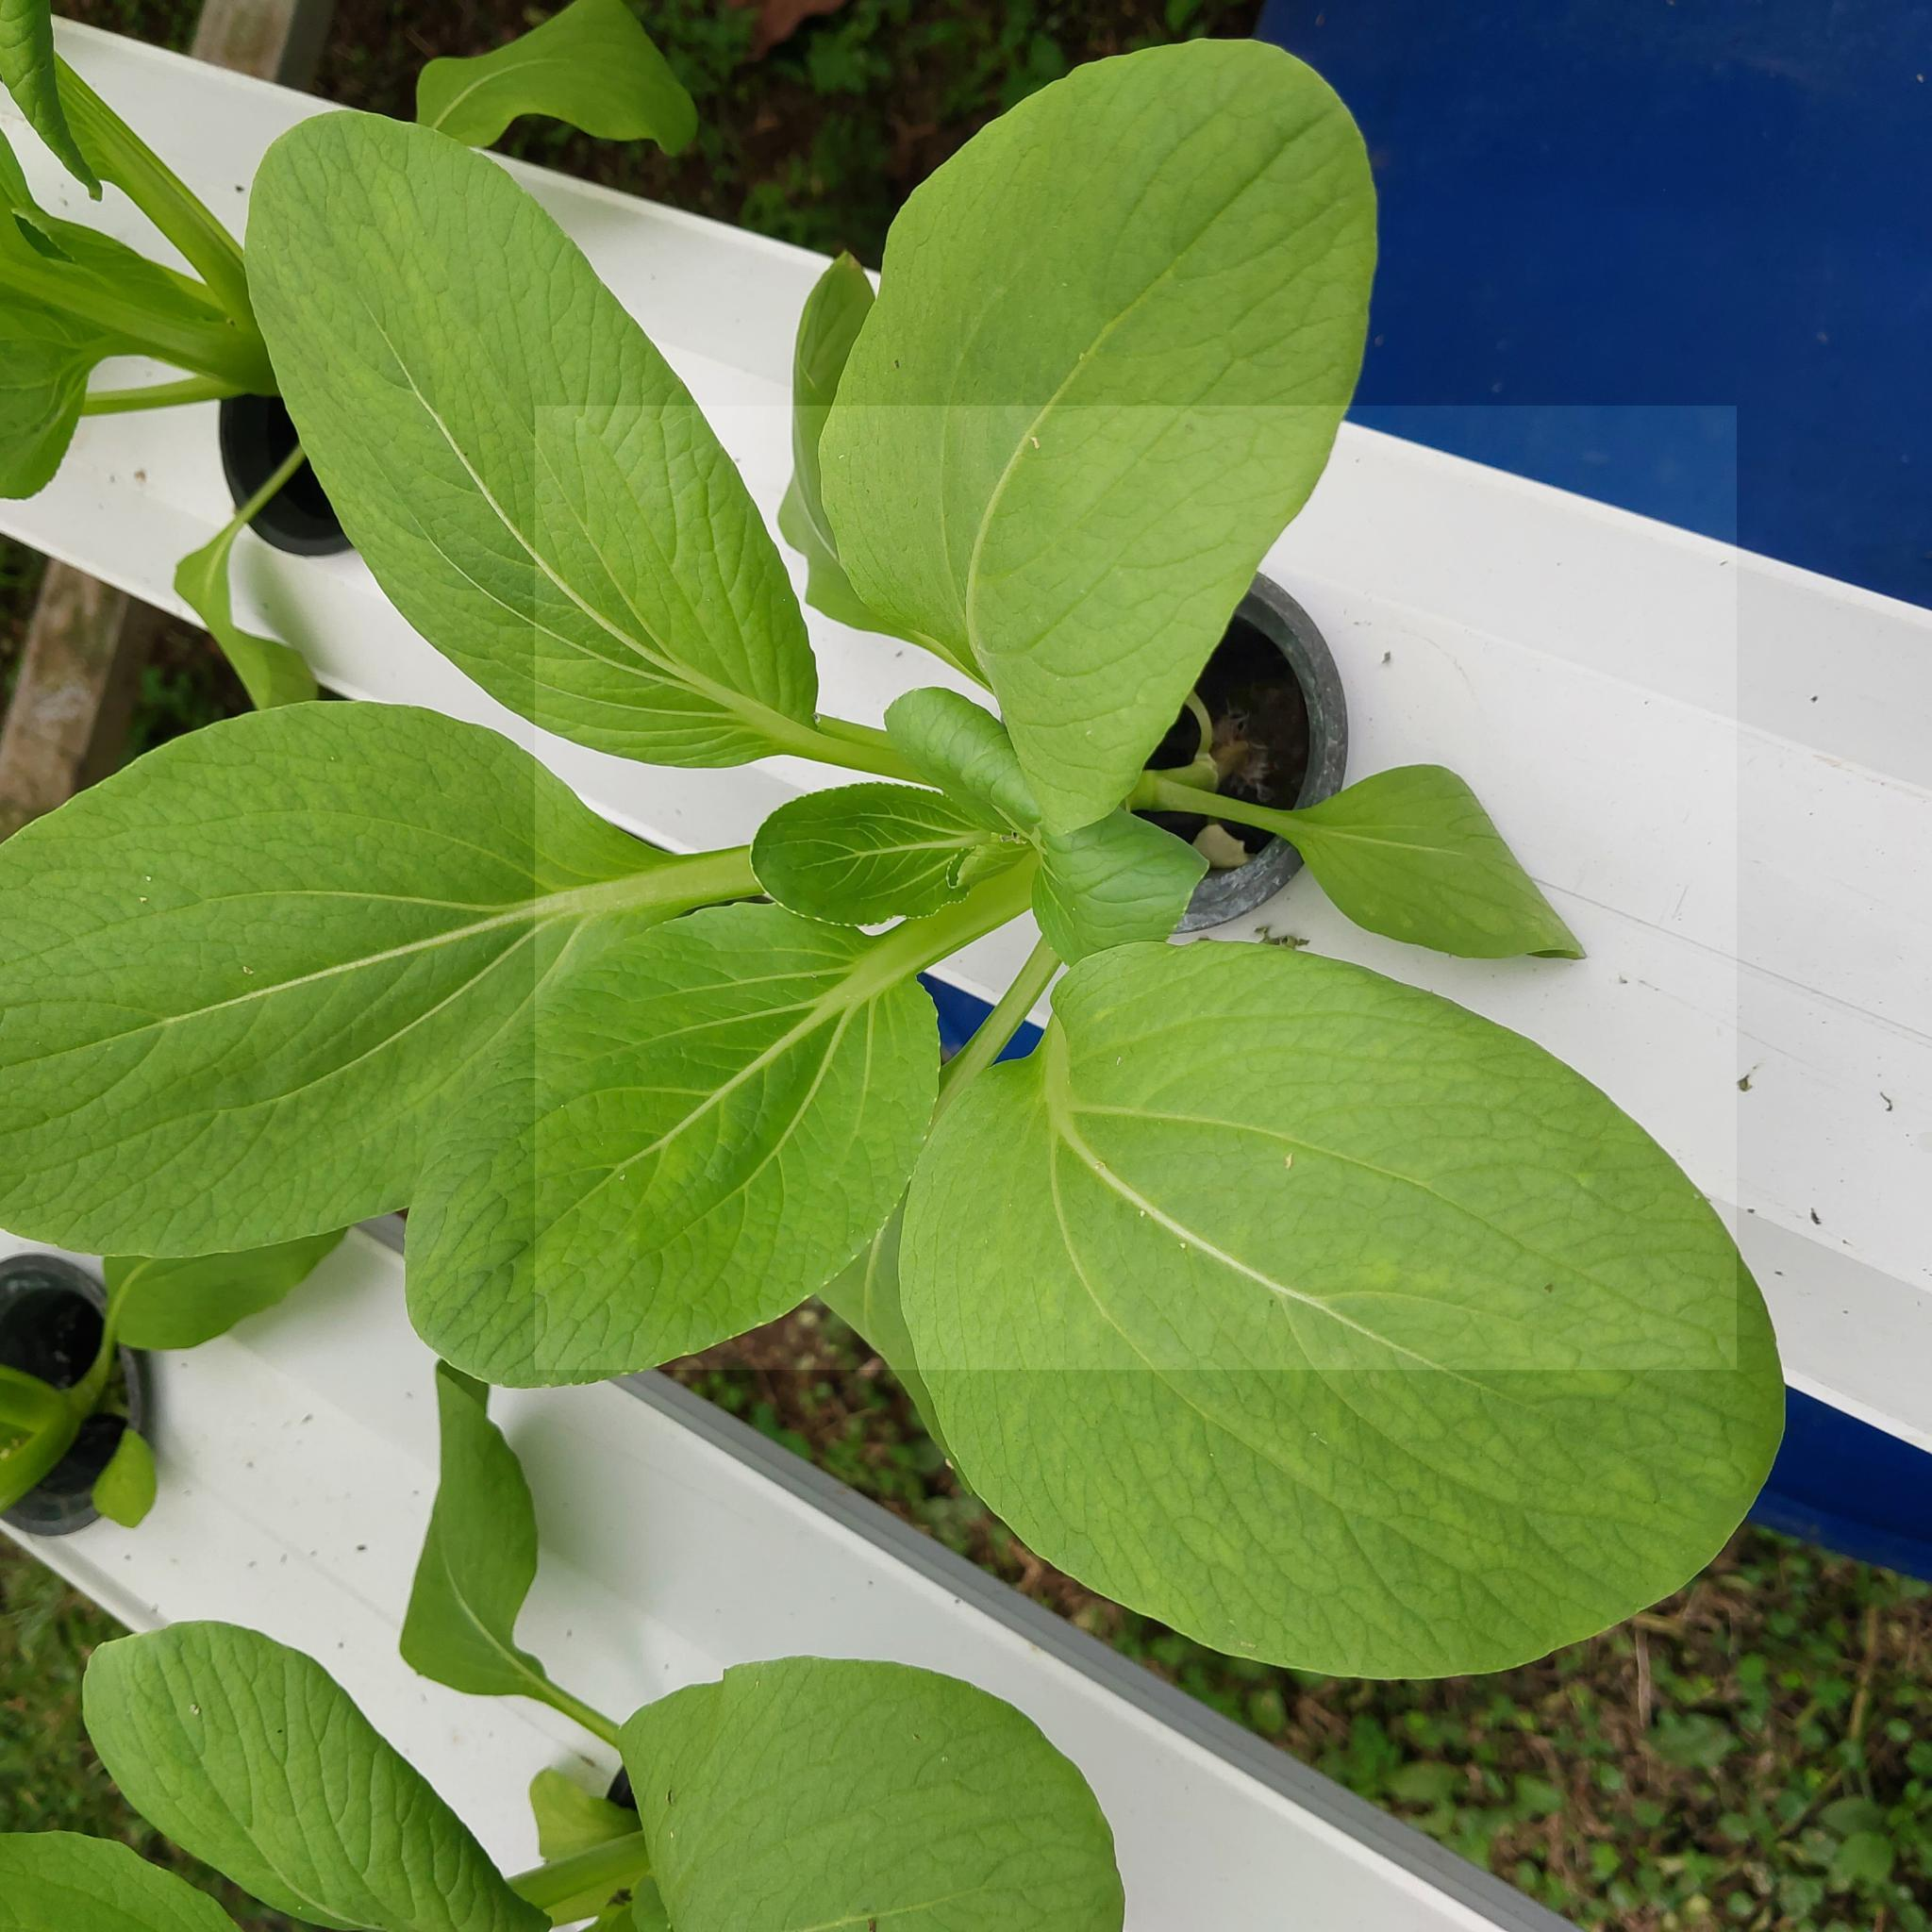Healthy-Pechay: (58, 25, 1725, 1683), (14, 704, 554, 939), (801, 19, 888, 99)
